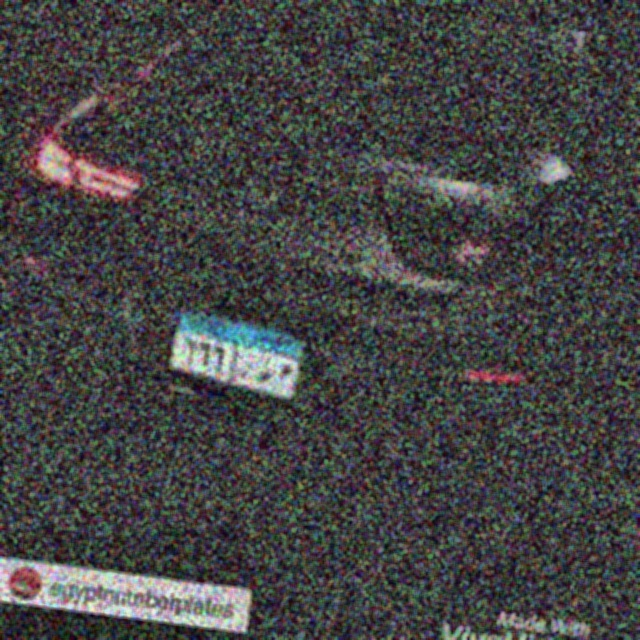License Plate: (162, 300, 314, 405)
